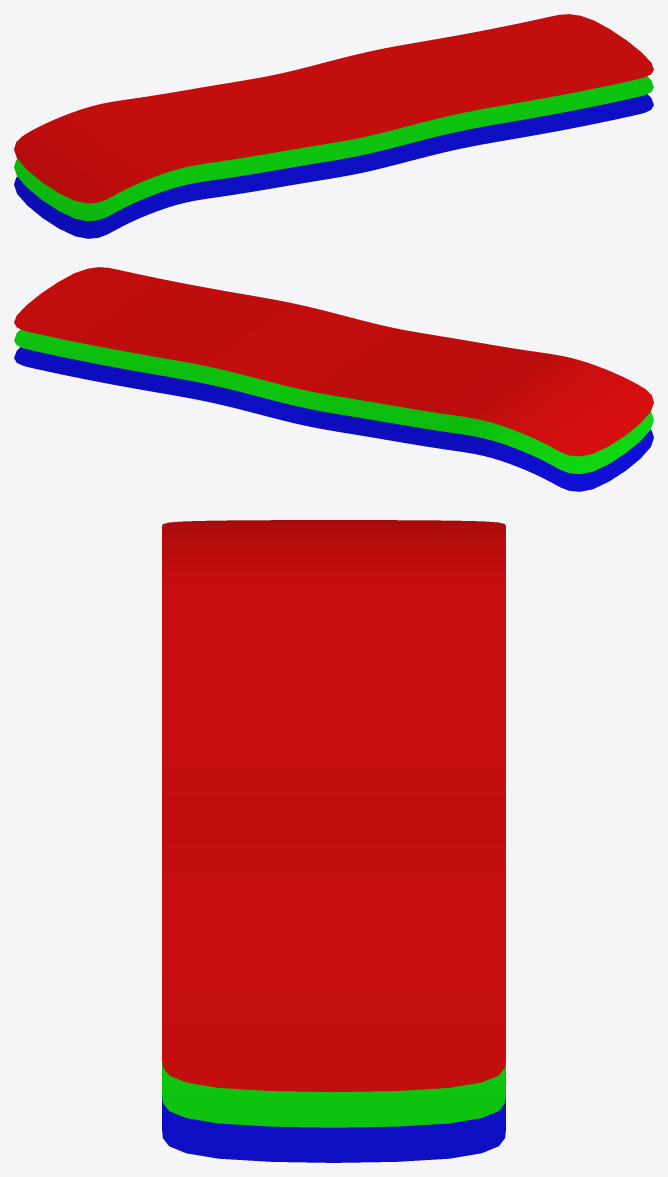
Rendered from AirFlowWind-2025-03-18-三合一三通道.fbx.
3 renders of one model, top to bottom at view 1: azimuth 30°, elevation 25°; view 2: azimuth 150°, elevation 25°; view 3: azimuth 270°, elevation 25°, orthographic. The views are drawn at different scales.
Parts seen in each view (by area): view 1: airFlow.wind; view 2: airFlow.wind; view 3: airFlow.wind.
Part boxes in pixels (<box>): airFlow.wind: <box>14,14,653,238</box>; airFlow.wind: <box>14,267,653,491</box>; airFlow.wind: <box>162,520,505,1162</box>.
Bounding box in the file's own units: 197 × 18.76 × 50.28.
